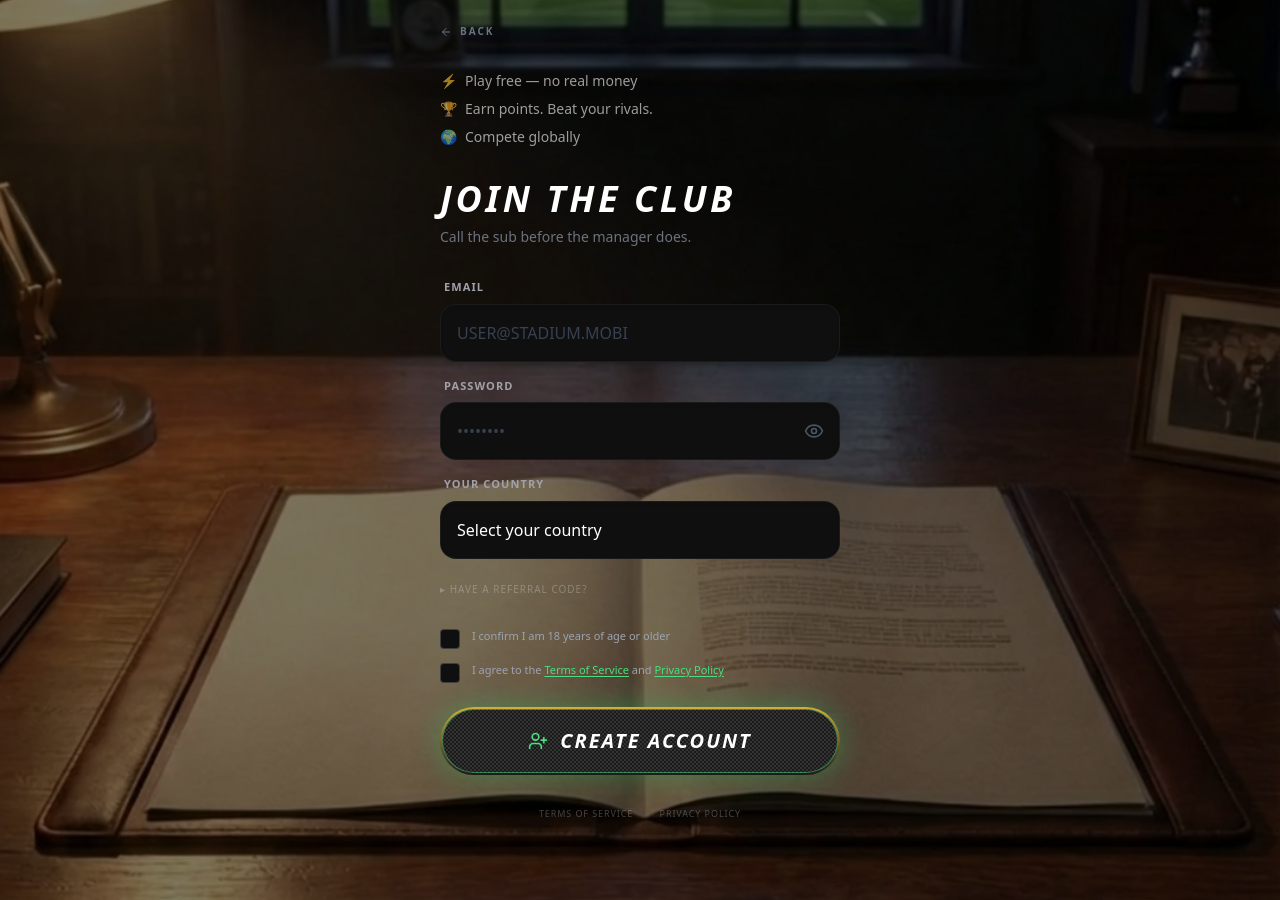
Test case: Signup Page › Compliance checkboxes › blocks submission when only the age box is checked
Type "test@example.com" into the field with placeholder "USER@STADIUM.MOBI" at [640, 332], box [440,304,840,362]
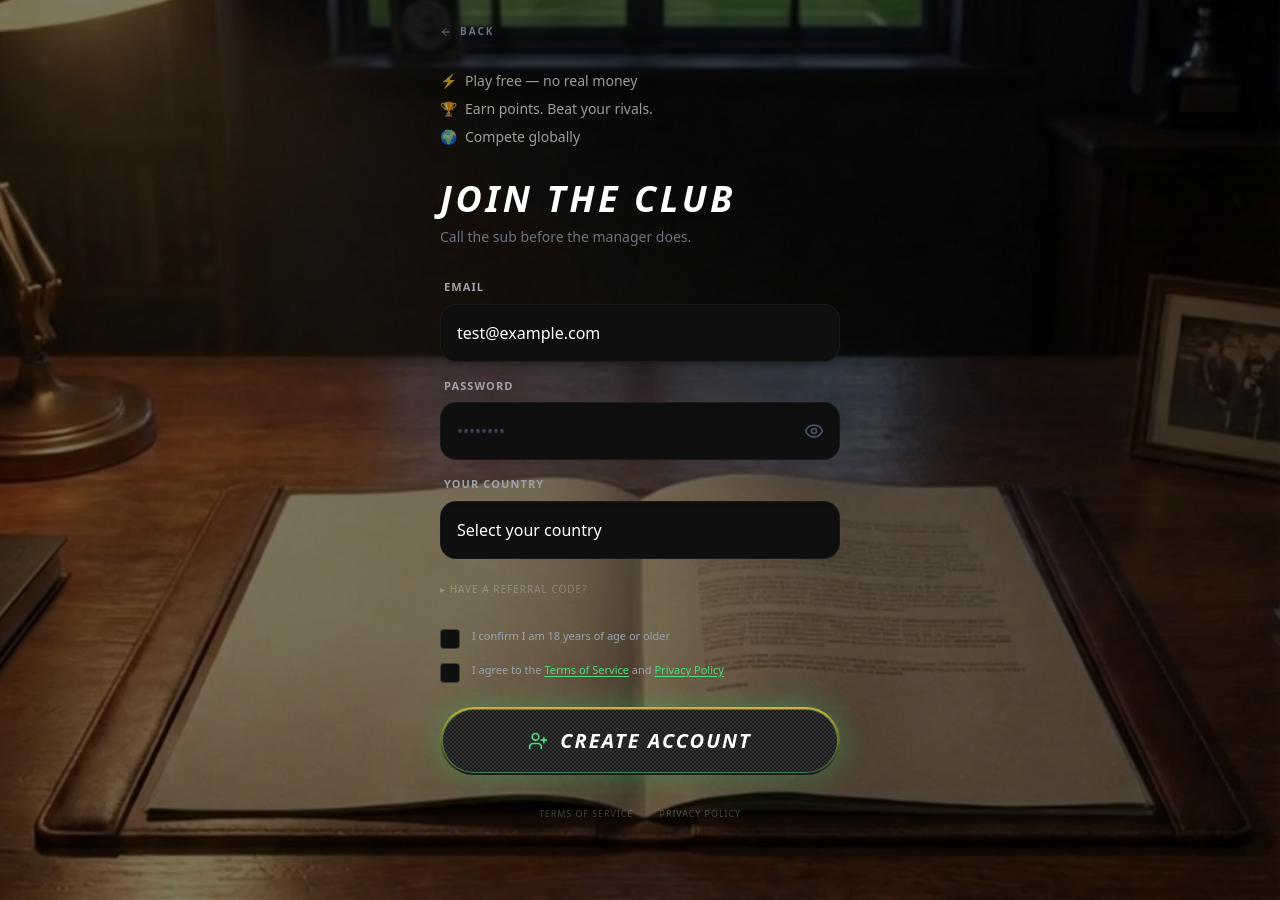
Type "password123" into the password field with placeholder "••••••••" at [640, 431], box [440,402,840,460]
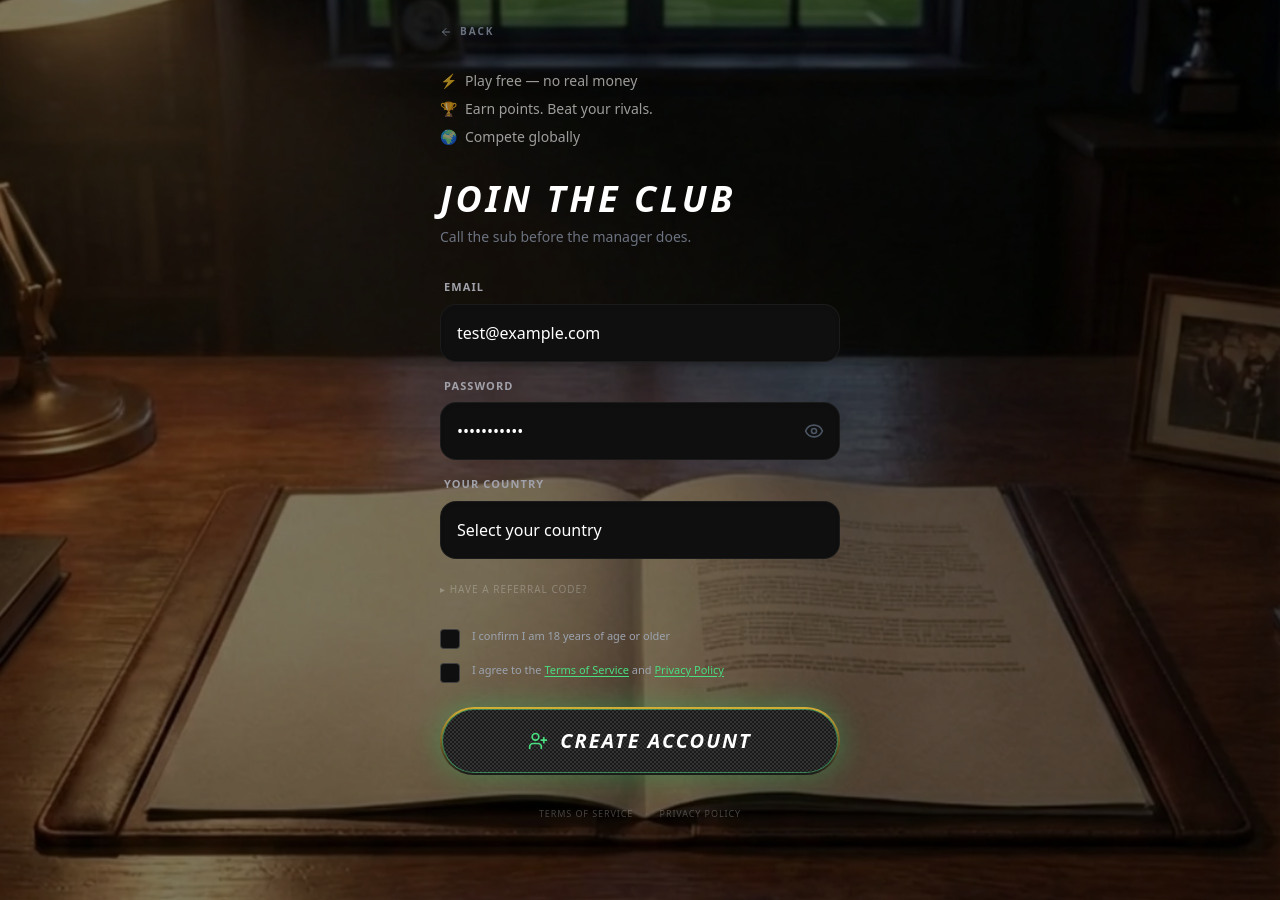
Click the checkbox labelled "I confirm I am 18 years of age or older" at [555, 638], box [440,628,670,648]
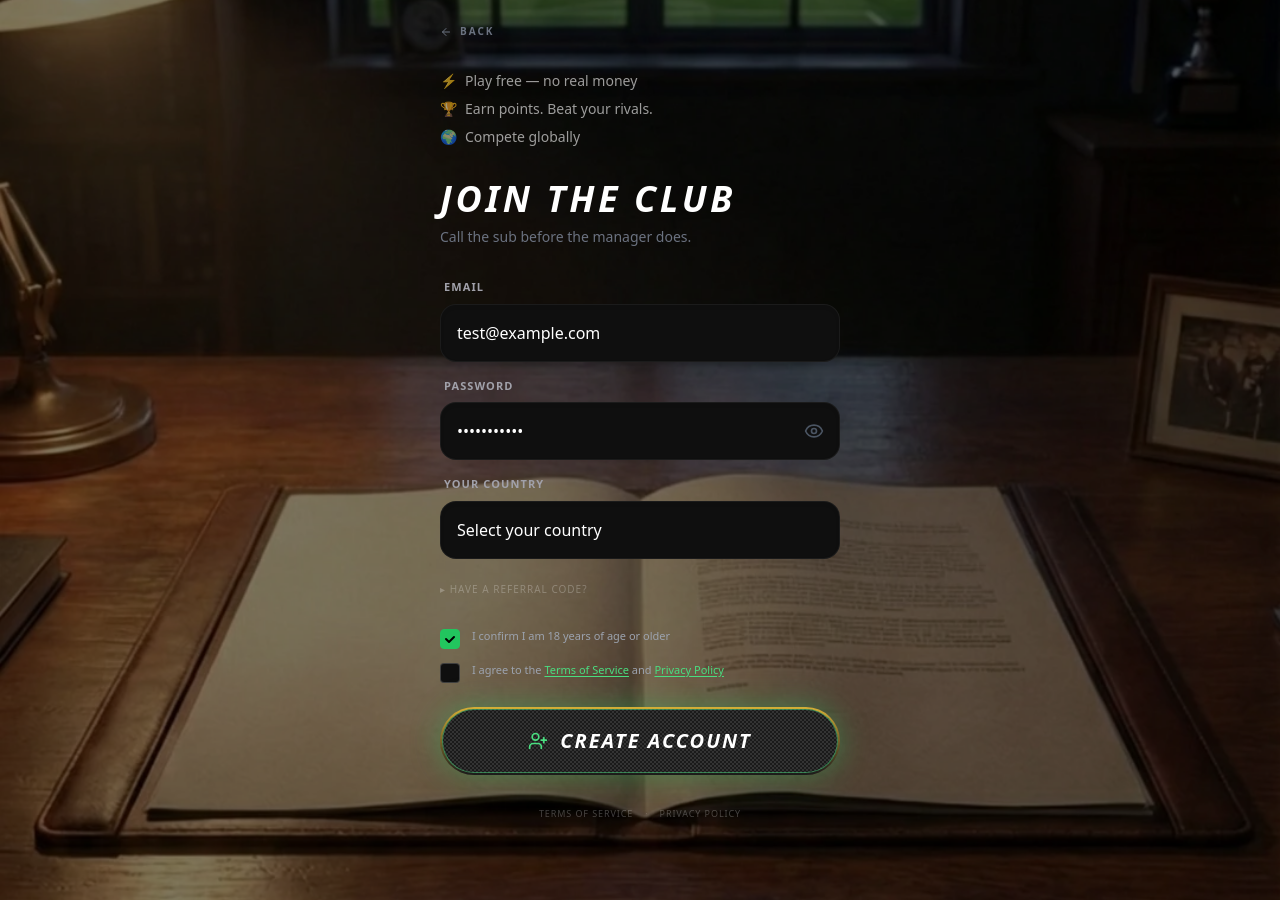
Submit the text "CREATE ACCOUNT", box [440,279,840,820]
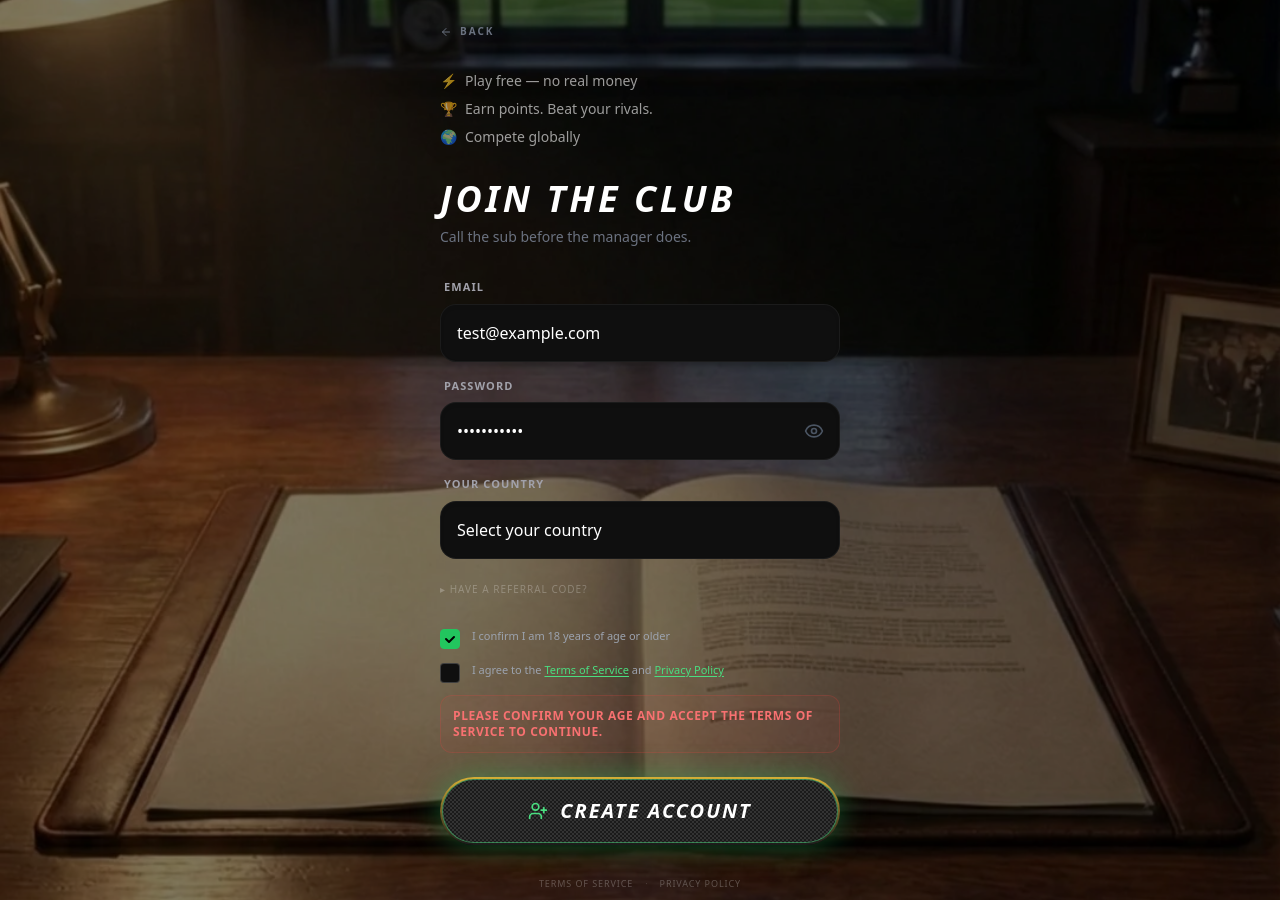
Expected: the text "Please confirm your age" is shown, [453,706,813,740]
